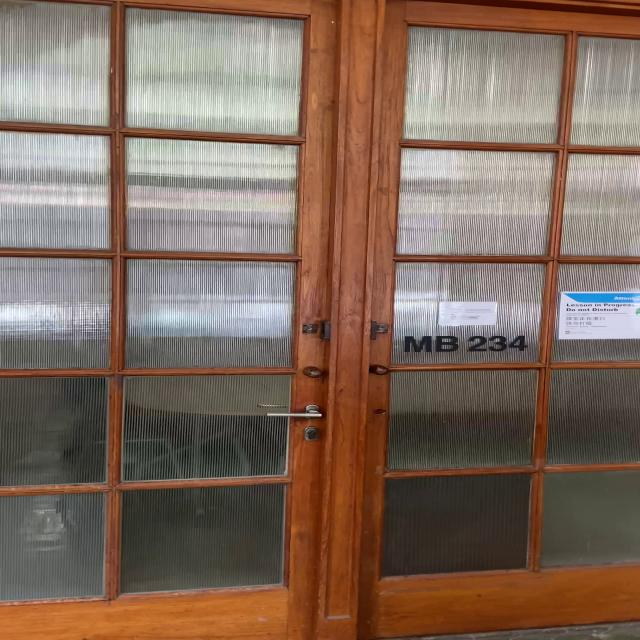room234Window: (397, 331, 536, 356)
